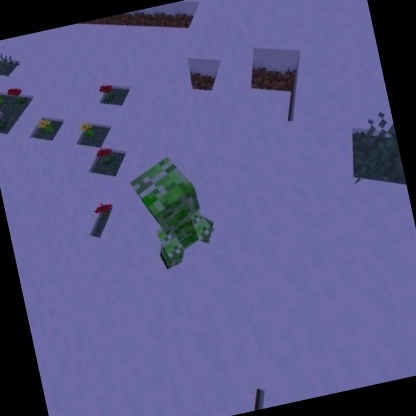creeper: (123, 148, 221, 277)
